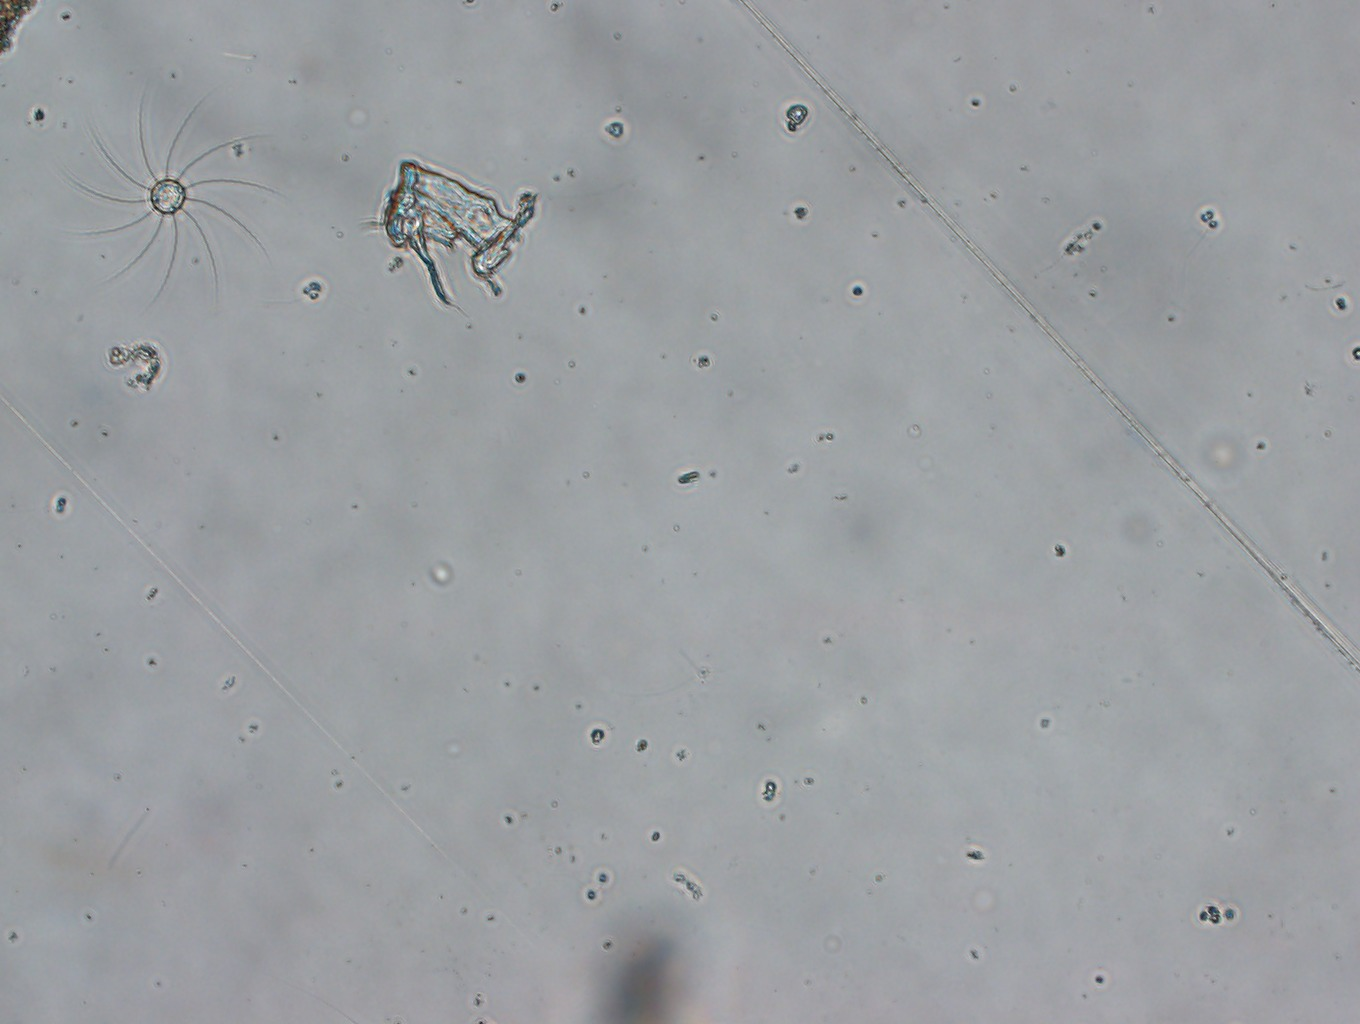bacteriastrum: (65, 98, 270, 318)
